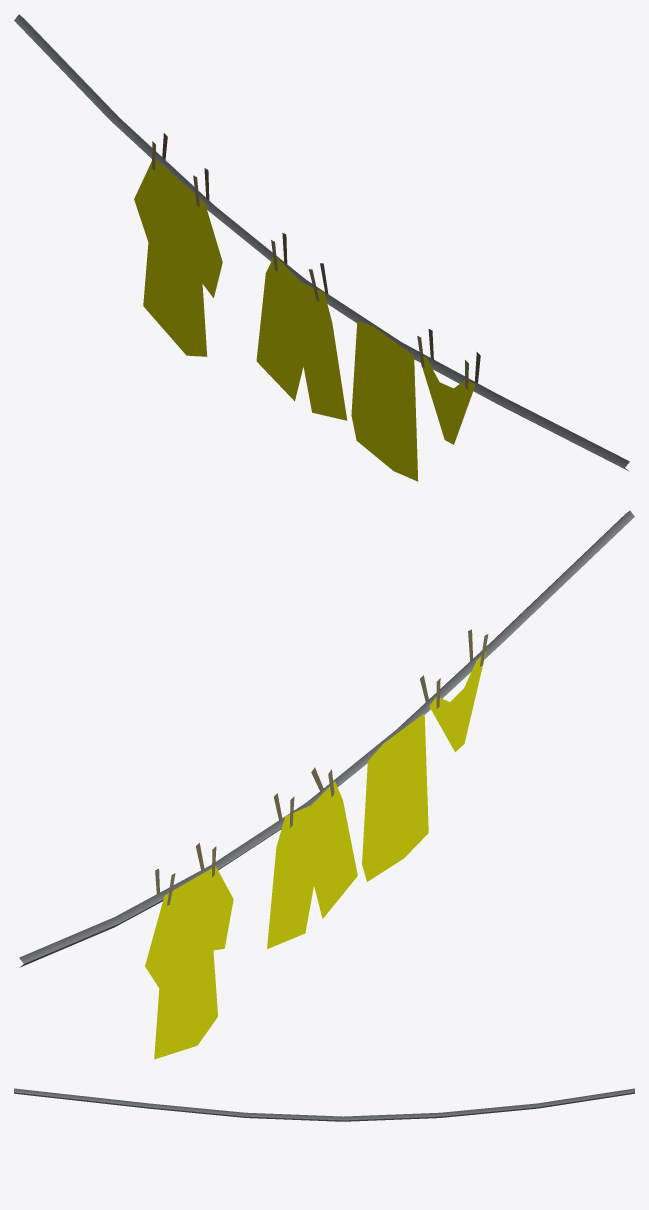
Rendered from ClothesLine03.glb.
The picture shows the model from 3 angles, top to bottom: view 1: azimuth 30°, elevation 25°; view 2: azimuth 150°, elevation 25°; view 3: azimuth 270°, elevation 25°; orthographic projection. The views are drawn at different scales.
Visible parts, largest first — view 1: ClothesLine03; view 2: ClothesLine03; view 3: ClothesLine03.
Part boxes in pixels (x1,y1,x2,y2): ClothesLine03: (14,14,629,481); ClothesLine03: (19,510,634,1059); ClothesLine03: (14,1088,634,1121).
Bounding box in the file's own units: 0.1438 × 2 × 10.39.
Materials: 2 (1 with a texture image).
